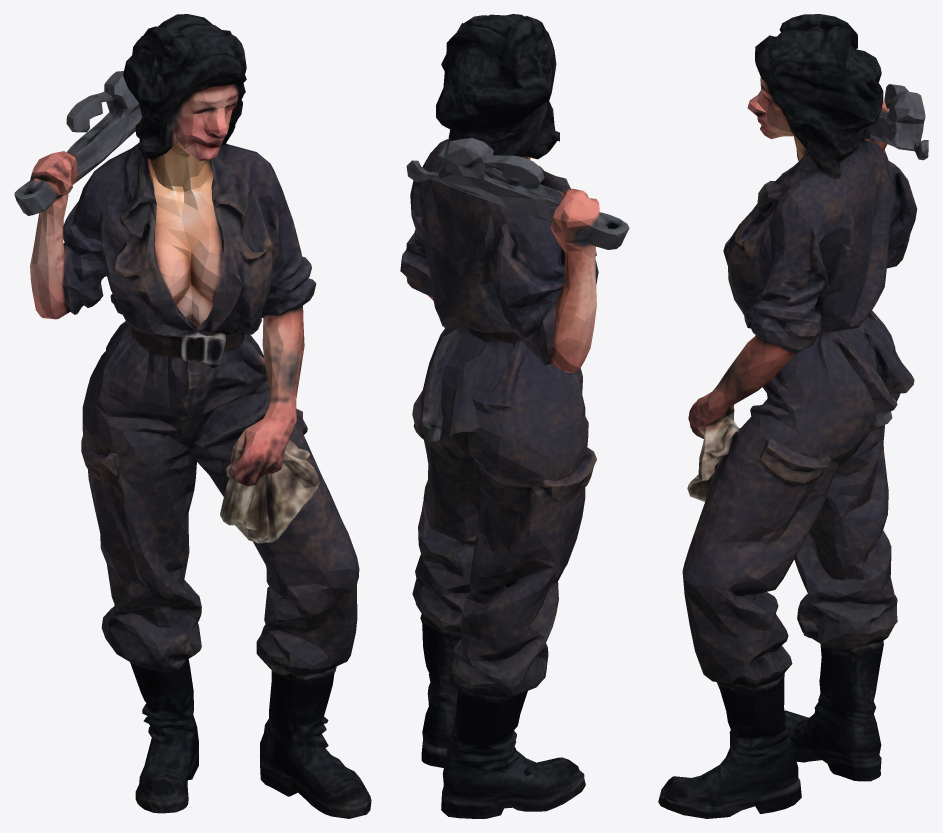
Rendered from crew_su_driver_4_idle.glb.
The picture shows the model from 3 angles, left to right: view 1: azimuth 30°, elevation 25°; view 2: azimuth 150°, elevation 25°; view 3: azimuth 270°, elevation 25°; orthographic projection. The views are drawn at different scales.
Visible parts, largest first — view 1: geometry_0; view 2: geometry_0; view 3: geometry_0.
Boxes of the visible parts, x1=… form: geometry_0: x1=14, y1=14, x2=371, y2=818; geometry_0: x1=400, y1=14, x2=629, y2=818; geometry_0: x1=658, y1=14, x2=928, y2=818.
Size of the model in its own units: 0.3656 by 1 by 0.329.
Materials: 1 (1 with a texture image).
